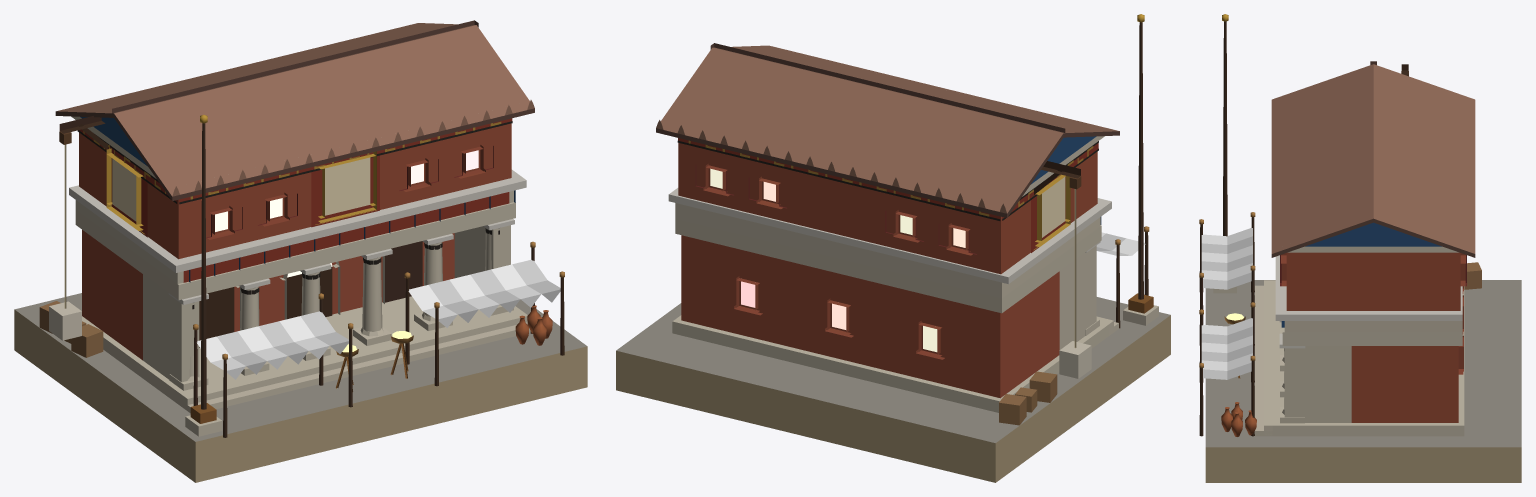
Rendered from harbour-office-tron.glb.
3 views of the same model, side by side, from view 1: azimuth 30°, elevation 25°; view 2: azimuth 150°, elevation 25°; view 3: azimuth 270°, elevation 25° (orthographic). The views are drawn at different scales.
Parts seen in each view (by area): view 1: office_body, awning, crest_panel, crest_panel.001, office_body_windows; view 2: office_body, office_body_windows, crest_panel.001, awning; view 3: office_body, awning.
Part boxes in pixels (x1,y1,x2,y2): office_body: (14,20,587,482); awning: (197,259,560,379); crest_panel: (325,157,370,215); crest_panel.001: (112,158,136,221); office_body_windows: (215,150,478,277); office_body: (616,14,1170,482); office_body_windows: (710,168,965,352); crest_panel.001: (1042,177,1065,237); awning: (1096,232,1145,255); office_body: (1199,14,1521,482); awning: (1201,228,1252,379).
Size of the model in its own units: 21.3 by 17.32 by 16.32.
